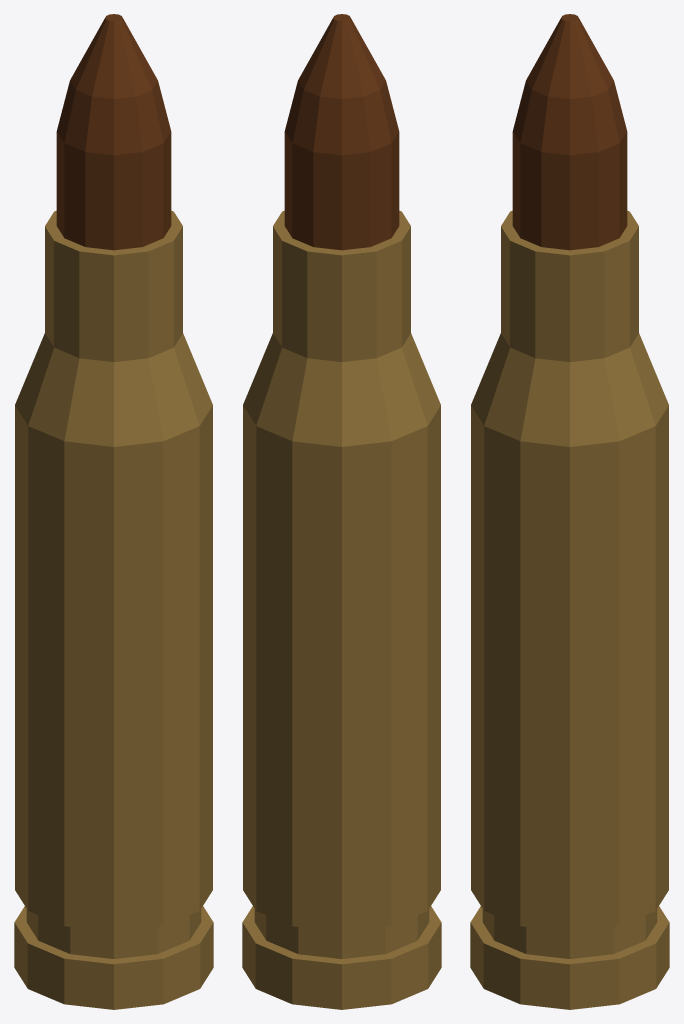
The model's file is bullet.fbx.
3 renders of one model, left to right at view 1: azimuth 30°, elevation 25°; view 2: azimuth 150°, elevation 25°; view 3: azimuth 270°, elevation 25°, orthographic.
Parts seen in each view (by area): view 1: Cylinder; view 2: Cylinder; view 3: Cylinder.
Boxes of the visible parts, x1=… form: Cylinder: x1=14, y1=14, x2=213, y2=1009; Cylinder: x1=242, y1=14, x2=441, y2=1009; Cylinder: x1=470, y1=14, x2=669, y2=1009.
Bounding box in the file's own units: 161 × 846 × 161.
